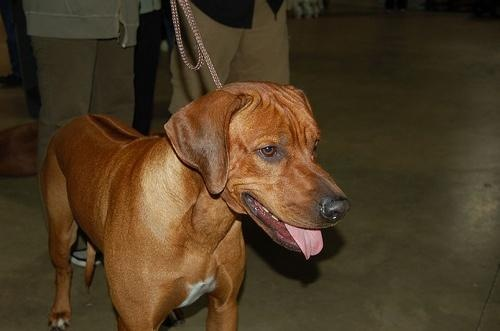dog: (39, 82, 352, 330)
